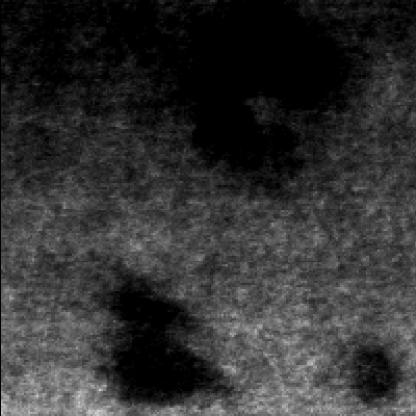patches: (173, 2, 343, 104), (92, 274, 222, 402), (185, 83, 295, 171), (339, 340, 401, 408)
